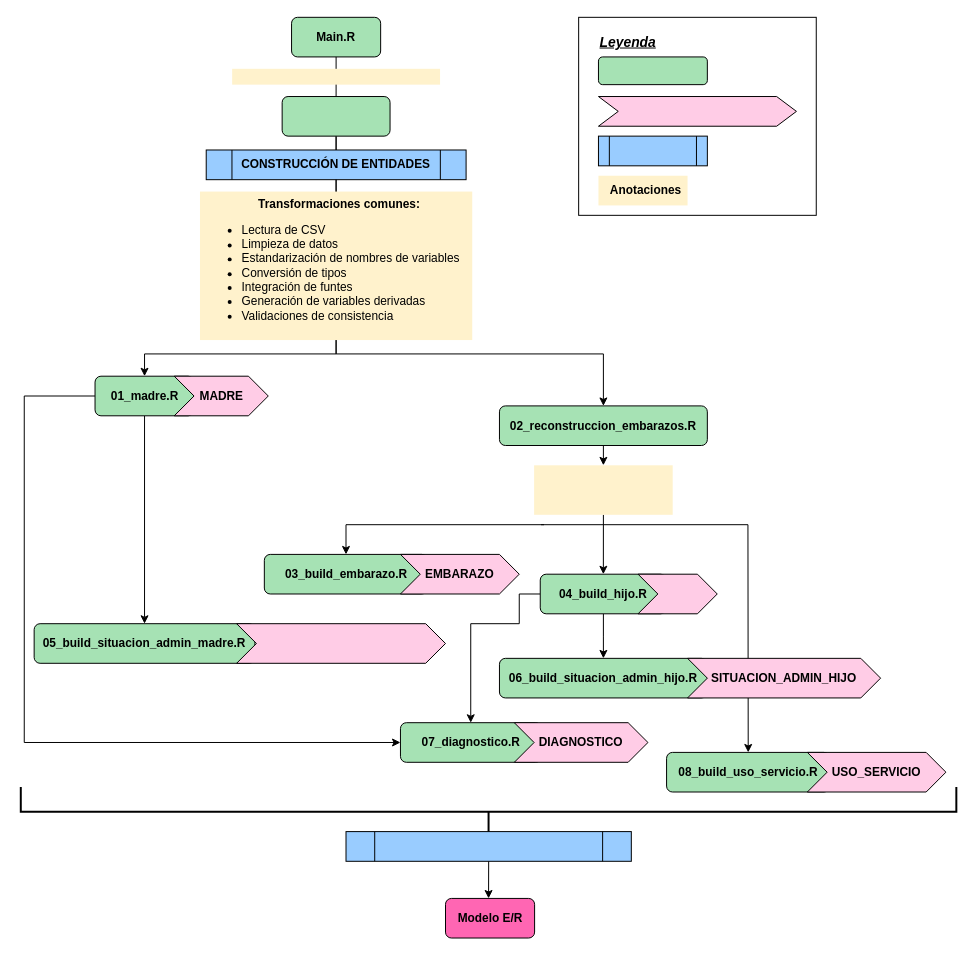
Some shapes in this 974 by 955 pixel diagram are drawn without their labels. Here are the shapes that lost their labels. From the top down, the box of each, then its label:
(232, 68, 440, 84): Ejecución secuencial del flujo ETL
(597, 56, 707, 85): Archivos R
(281, 96, 390, 136): 00_config.R (librerías y rutas)
(597, 96, 796, 126): Entidades del modelo E/R
(597, 135, 707, 166): Procesos
(534, 465, 672, 514): Genera tablas auxiliares: embarazos_aux y partos_aux
(637, 573, 717, 614): HIJO
(236, 623, 446, 663): SITUACION_ADMIN_MADRE
(345, 831, 631, 861): EXPORTACIÓN DE ENTIDADES (.csv)
